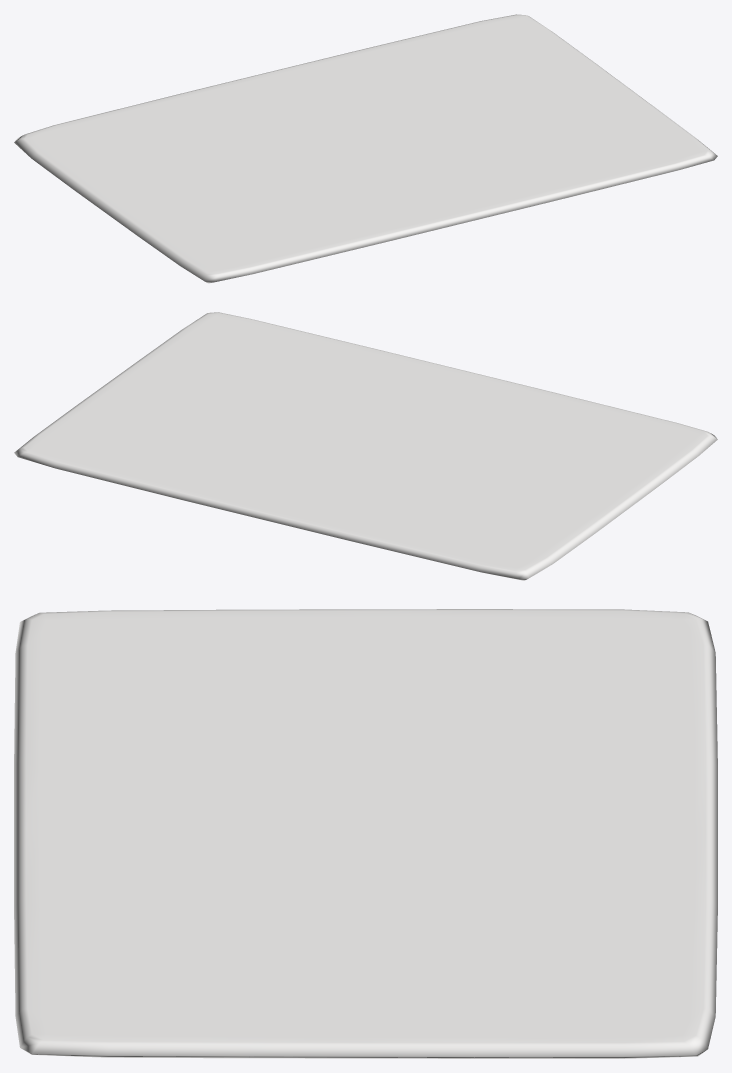
File: P_RugMediumArgyle.glb
The picture shows the model from 3 angles, top to bottom: view 1: azimuth 30°, elevation 25°; view 2: azimuth 150°, elevation 25°; view 3: azimuth 270°, elevation 25°; orthographic projection. The views are drawn at different scales.
Parts seen in each view (by area): view 1: P_RugMediumArgyle; view 2: P_RugMediumArgyle; view 3: P_RugMediumArgyle.
Boxes of the visible parts, left/top/right/bottom form: P_RugMediumArgyle: left=14, top=14, right=717, bottom=283; P_RugMediumArgyle: left=14, top=312, right=717, bottom=580; P_RugMediumArgyle: left=14, top=609, right=717, bottom=1058.
Size of the model in its own units: 2.99 by 0.0405 by 2.
1 material, 1 textured.
